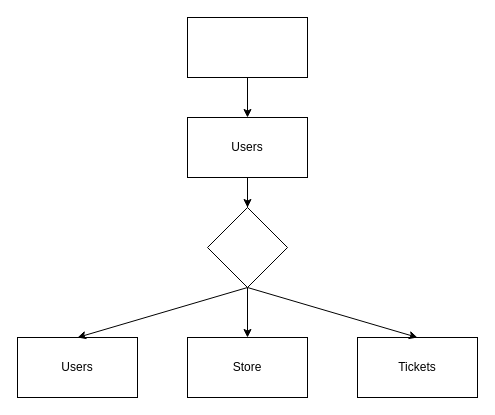
Some shapes in this 495 by 415 pixel diagram are drawn without their labels. Here are the shapes that lost their labels. From the top down, the box of each, then its label:
(186, 16, 308, 78): Data base
(206, 206, 288, 288): Tabels
